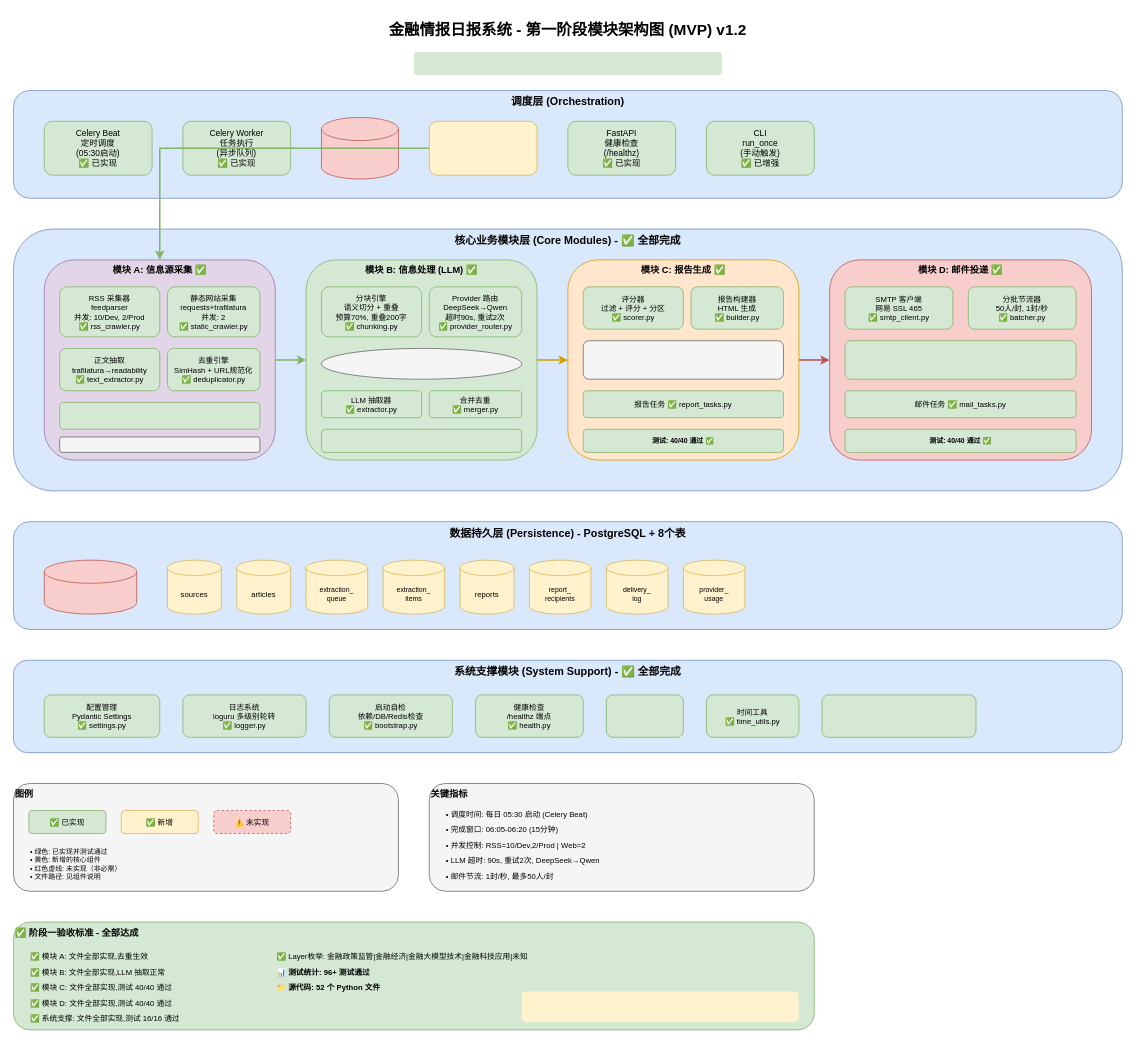
Some shapes in this 1136 by 1043 pixel diagram are drawn without their labels. The shapes that lost their labels are listed below. From the top down, each one's centre as x and y in pixels, then its label:
point (567, 63): ✅ 已更新: 与实际代码 100% 同步 | 更新日期: 2025-11-08
point (359, 148): Redis 队列/调度 缓存 ✅ Docker
point (483, 148): Orchestrator 任务编排器 chain/group ✅ 新增
point (421, 363): LLM Providers: DeepSeek (主) | Qwen (备)
point (683, 359): HTML 模板 ✅ email_body.html ✅ attachment.html
point (960, 359): 重试处理器 失败重试2次, 硬退信黑名单 ✅ retry_handler.py
point (159, 415): 采集任务 ✅ crawl_tasks.py
point (159, 444): 基础框架 ✅ base.py
point (421, 440): 抽取任务 ✅ extract_tasks.py
point (90, 586): PostgreSQL Docker
point (644, 715): 重试工具 ✅ retry.py
point (898, 715): 系统测试: 16/16 通过 ✅
point (659, 1006): 📅 更新日期: 2025-11-08 | 状态: 与代码 100% 同步 | 版本: v1.2
